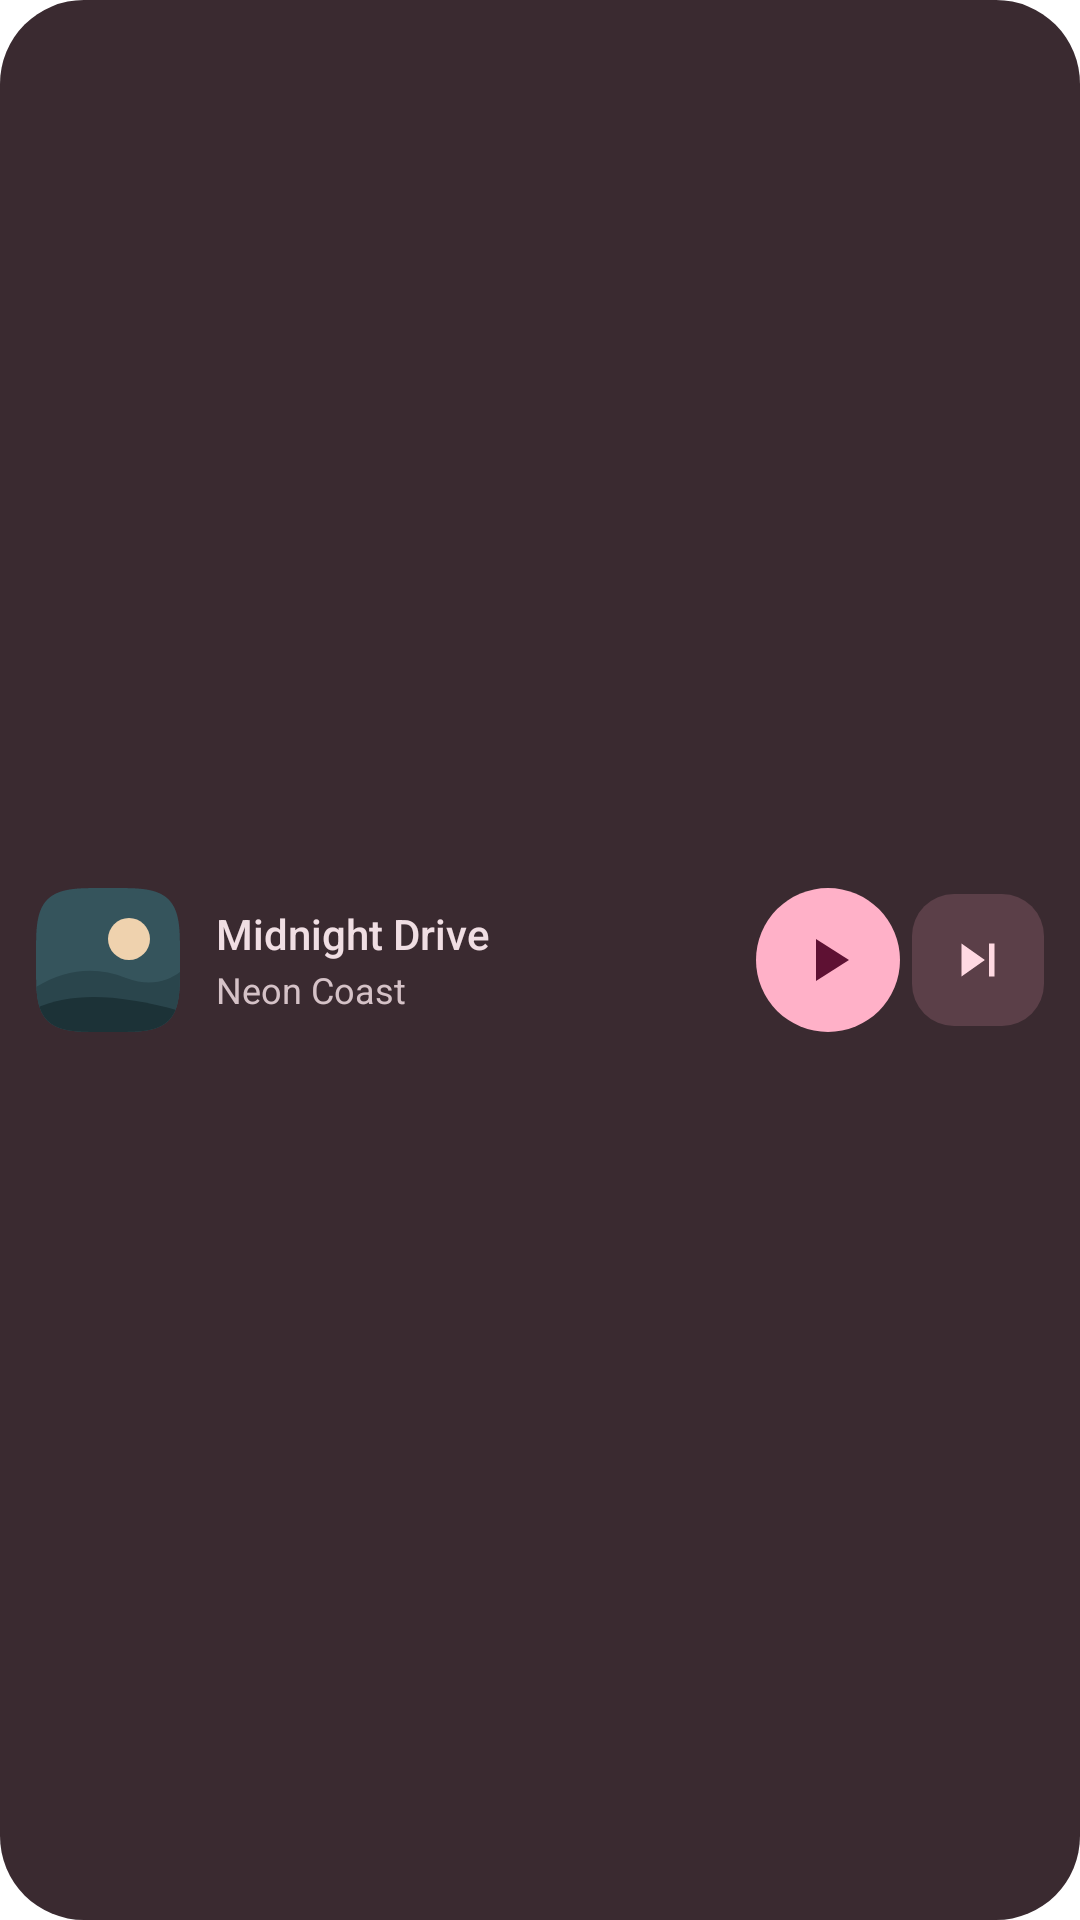

Screen size 1080w x 1920h. Icon name, then its box in pixels as [x1=x1, y1=y1, x2=x2, y2=y2]:
Next: [x1=961, y1=943, x2=995, y2=977]
Play: [x1=816, y1=939, x2=849, y2=981]
